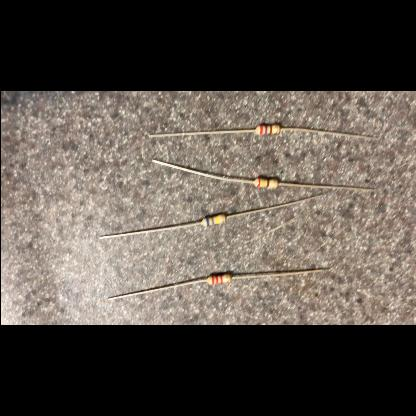resistor: (206, 273, 232, 285), (201, 214, 226, 226), (256, 124, 278, 136), (254, 178, 276, 188)
wire: (151, 160, 253, 184), (226, 195, 322, 219), (106, 279, 206, 301), (99, 221, 201, 239), (280, 128, 378, 140), (231, 268, 327, 280), (148, 128, 254, 138), (277, 182, 373, 191)
